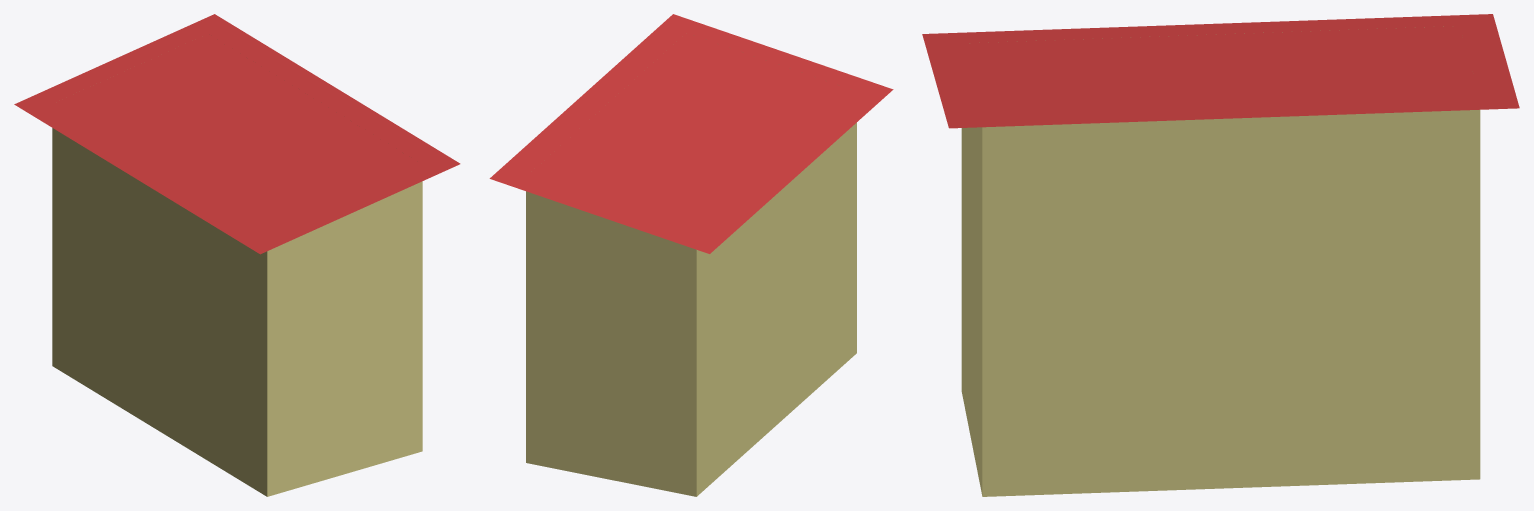
3 renders of one model, left to right at view 1: azimuth 30°, elevation 25°; view 2: azimuth 150°, elevation 25°; view 3: azimuth 270°, elevation 25°, orthographic. The views are drawn at different scales.
Size of the model in its own units: 5.06 by 8.17 by 5.81.
